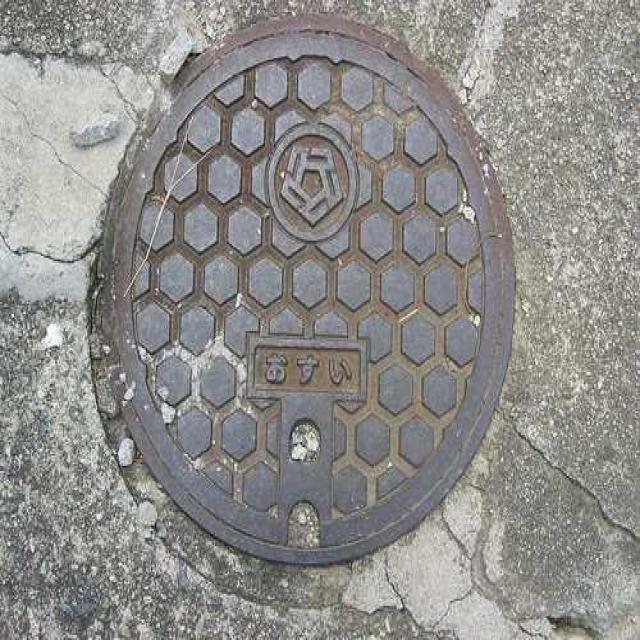manhole: (115, 17, 514, 563)
